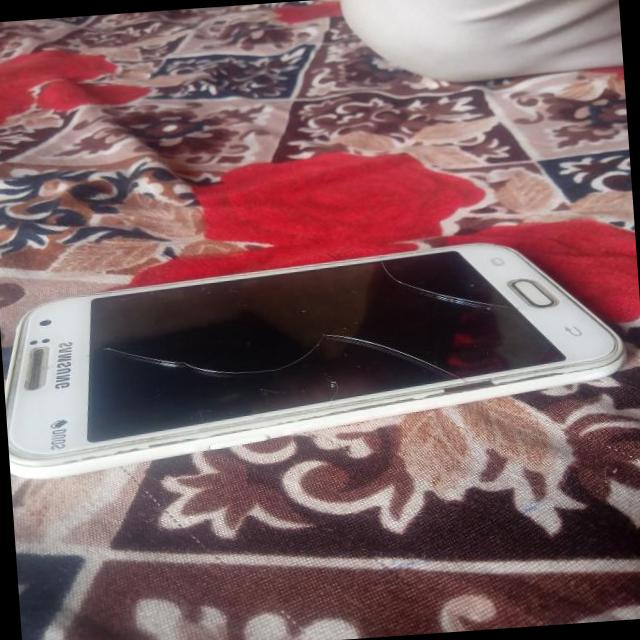screen crack: (75, 238, 555, 431)
